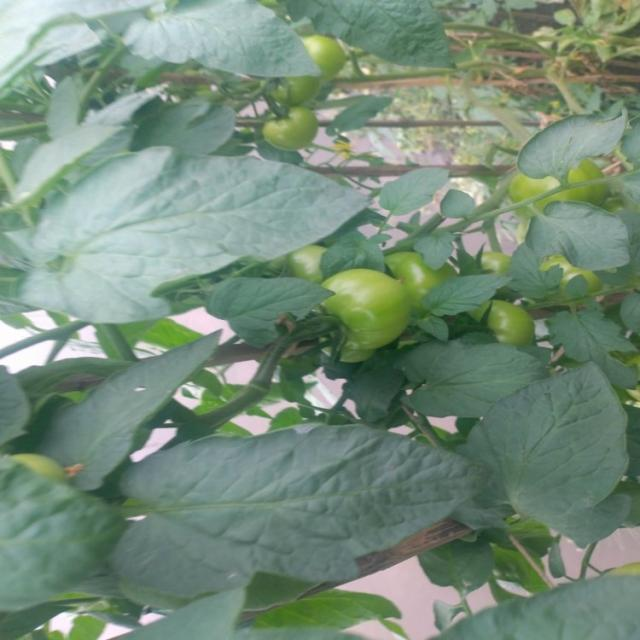tomato: (320, 271, 409, 348), (513, 160, 607, 209), (262, 78, 323, 147), (392, 249, 458, 304), (465, 299, 537, 348), (262, 248, 325, 286), (301, 34, 350, 78), (477, 249, 513, 276)
